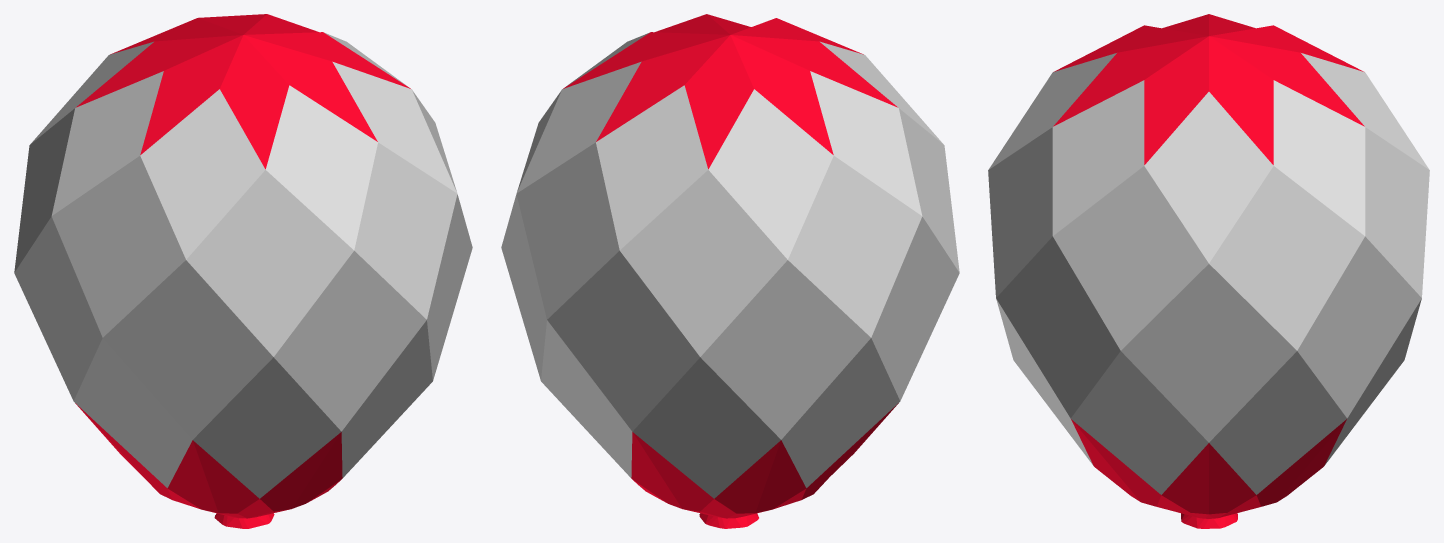
Rendered from Balloon1.fbx.
3 views of the same model, side by side, from view 1: azimuth 30°, elevation 25°; view 2: azimuth 150°, elevation 25°; view 3: azimuth 270°, elevation 25° (orthographic).
Visible parts, largest first — view 1: Balloon1; view 2: Balloon1; view 3: Balloon1.
Boxes of the visible parts, x1=… form: Balloon1: x1=14, y1=14, x2=472, y2=528; Balloon1: x1=501, y1=14, x2=959, y2=528; Balloon1: x1=988, y1=14, x2=1429, y2=528.
Bounding box in the file's own units: 50.03 × 60.02 × 50.03.
